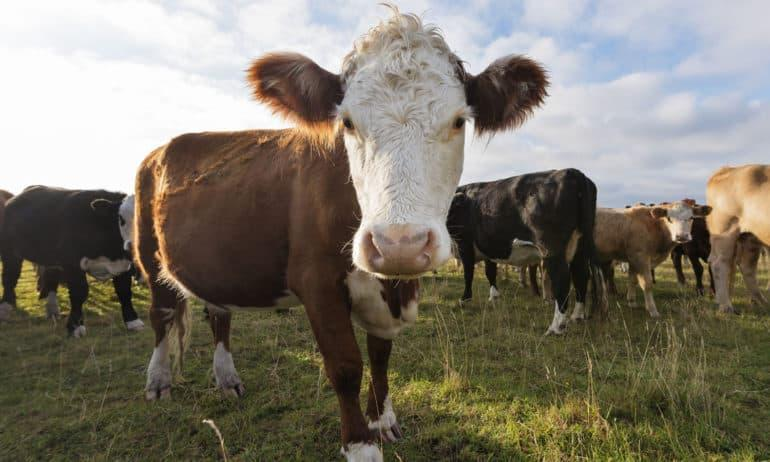muzzles: (348, 222, 459, 282), (671, 230, 693, 245)
